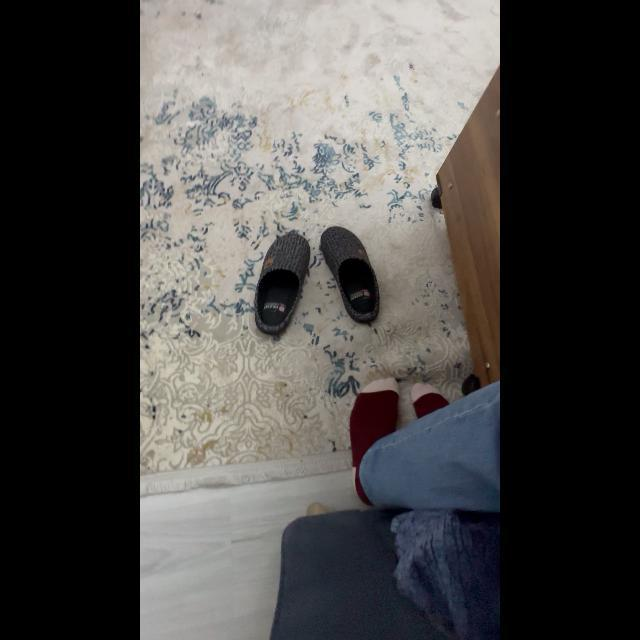slipper: (238, 216, 318, 344), (314, 220, 392, 326)
